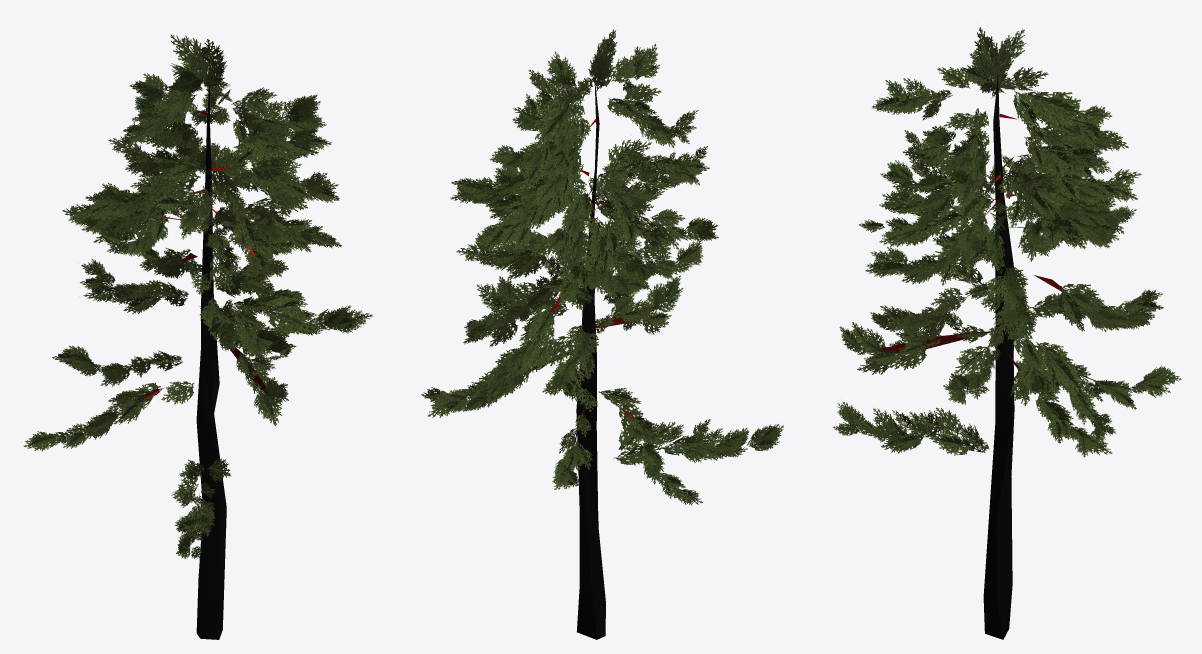
The model's file is pine3 lod2.FBX.
The picture shows the model from 3 angles, left to right: view 1: azimuth 30°, elevation 25°; view 2: azimuth 150°, elevation 25°; view 3: azimuth 270°, elevation 25°; orthographic projection.
Visible parts, largest first — view 1: pine3_LOD2; view 2: pine3_LOD2; view 3: pine3_LOD2.
Boxes of the visible parts, x1,y1,x2,y2 form: pine3_LOD2: (23,34,372,639); pine3_LOD2: (421,29,783,639); pine3_LOD2: (833,27,1181,639).
Bounding box in the file's own units: 178108 × 346402 × 186121.
